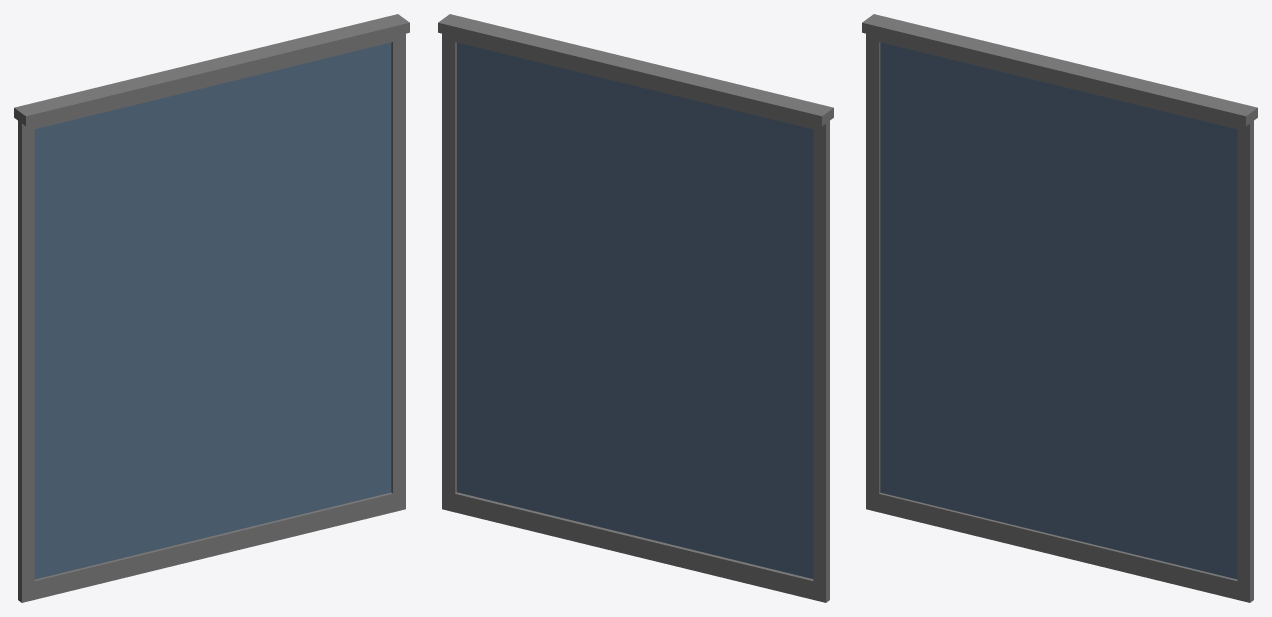
Rendered from SM_Panel.FBX.
3 views of the same model, side by side, from view 1: azimuth 30°, elevation 25°; view 2: azimuth 150°, elevation 25°; view 3: azimuth 330°, elevation 25° (orthographic).
Parts seen in each view (by area): view 1: SM_Panel; view 2: SM_Panel; view 3: SM_Panel.
Part boxes in pixels (x1,y1,x2,y2): SM_Panel: (14,14,409,602); SM_Panel: (438,14,833,602); SM_Panel: (862,14,1257,602).
Bounding box in the file's own units: 299 × 364 × 15.95.
